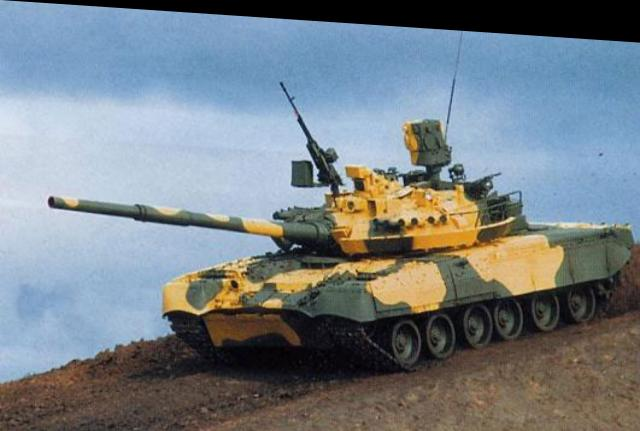tank: (162, 110, 628, 384)
